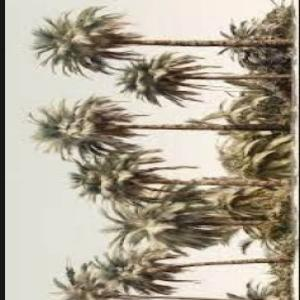palm tree: (27, 0, 296, 299)
